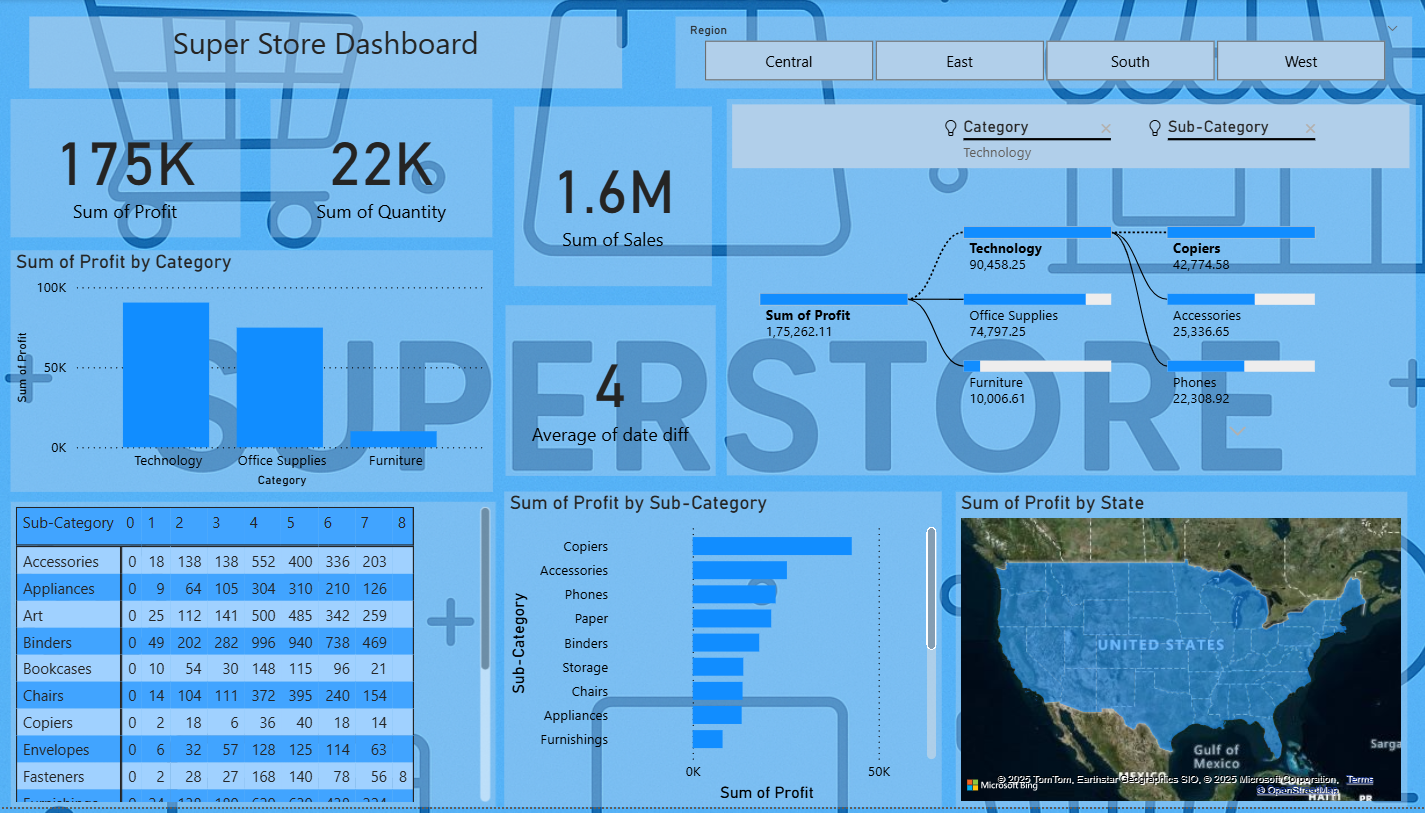

This screenshot's page, from the dashboard's own definition file:
{"tool":"powerbi","page":{"name":"Page 1","canvas":[1280,720],"ordinal":0},"visuals":[{"type":"card","fields":{"Values":["Sum(Sheet1.Profit)"]},"box":[15.1,89.2,204.5,123.5],"z":0},{"type":"card","fields":{"Values":["Sum(Sheet1.Quantity)"]},"box":[247,89.2,197.6,123.5],"z":1000},{"type":"card","fields":{"Values":["Sum(Sheet1.Sales)"]},"box":[464,96,176,160],"z":2000},{"type":"clusteredColumnChart","fields":{"Category":["Sheet1.Category"],"Y":["Sum(Sheet1.Profit)"]},"box":[15.1,223.7,429.5,215.4],"z":3000},{"type":"textbox","box":[32,16,528,64],"z":4000},{"type":"decompositionTreeVisual","fields":{"Analyze":["Sum(Sheet1.Profit)"],"ExplainBy":["Sheet1.Category","Sheet1.Sub-Category"]},"box":[653.2,89.2,613.4,334.8],"z":5000},{"type":"slicer","fields":{"Values":["Sheet1.Region"]},"box":[608,16,656,64],"z":6000},{"type":"card","fields":{"Values":["Avg(Sheet1.date diff)"]},"box":[456,272.7,187,152],"z":7000},{"type":"pivotTable","fields":{"Rows":["Sheet1.Sub-Category"],"Columns":["Sheet1.date diff"],"Values":["Sum(Sheet1.date diff)"]},"box":[16,448,432,272],"z":8000},{"type":"filledMap","fields":{"Category":["Sheet1.State"]},"box":[857.6,439.1,402.1,281.3],"z":9000},{"type":"barChart","fields":{"Y":["Sum(Sheet1.Profit)"],"Category":["Sheet1.Sub-Category"]},"box":[455.6,439.1,389.7,281.3],"z":10000}]}

Visuals, with their boxes in screenshot pixels (x1, y1, x2, y2), scaled from the page's 1280x720 canvas onto the 1425x813 screenshot:
card - Sum(Sheet1.Profit): box(17, 101, 244, 240)
card - Sum(Sheet1.Quantity): box(275, 101, 495, 240)
card - Sum(Sheet1.Sales): box(517, 108, 712, 289)
clusteredColumnChart - Sheet1.Category x Sum(Sheet1.Profit): box(17, 253, 495, 496)
textbox: box(36, 18, 623, 90)
decompositionTreeVisual - Sum(Sheet1.Profit) x Sheet1.Category: box(727, 101, 1410, 479)
slicer - Sheet1.Region: box(677, 18, 1407, 90)
card - Avg(Sheet1.date diff): box(508, 308, 716, 480)
pivotTable - Sheet1.Sub-Category x Sheet1.date diff: box(18, 506, 499, 812)
filledMap - Sheet1.State: box(955, 496, 1402, 812)
barChart - Sum(Sheet1.Profit) x Sheet1.Sub-Category: box(507, 496, 941, 812)
